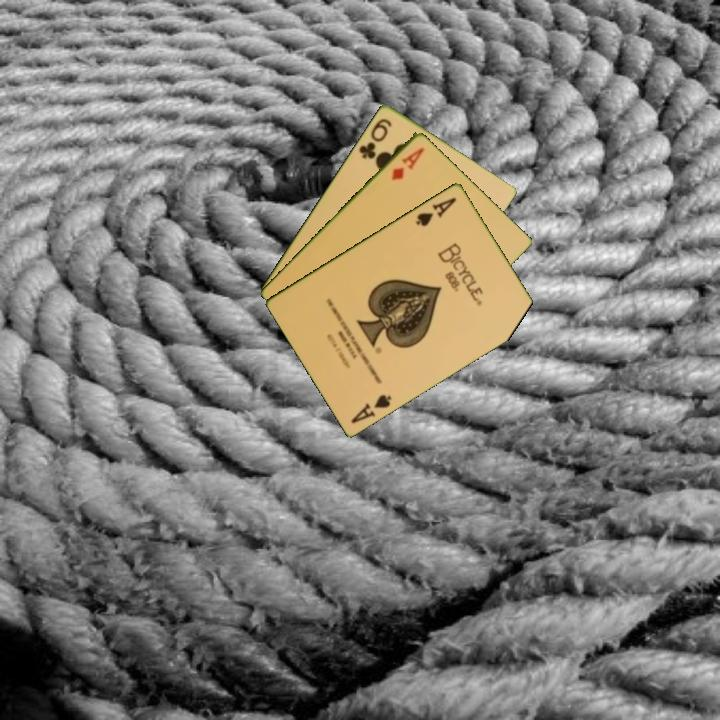6c: (355, 114, 394, 162)
Ad: (388, 143, 427, 183)
As: (412, 193, 460, 229), (347, 390, 395, 426)
